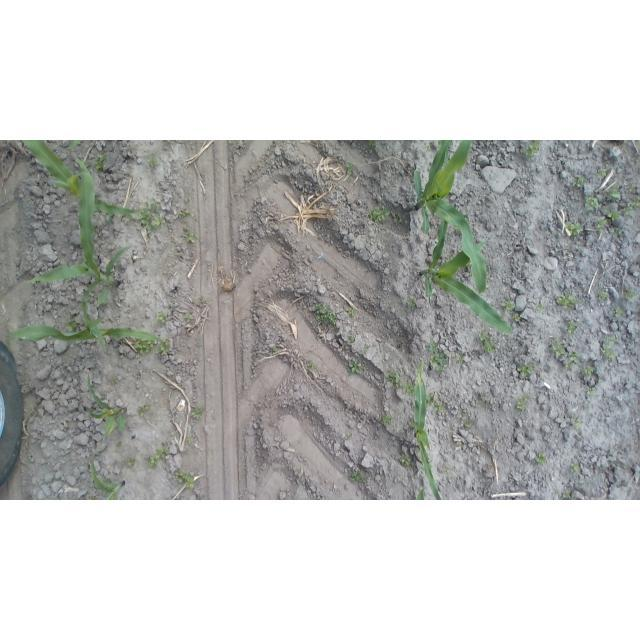Maize: (25, 153, 131, 345), (415, 140, 490, 293), (419, 218, 514, 337), (22, 140, 150, 216), (8, 321, 169, 354), (408, 361, 444, 500), (87, 371, 127, 437), (90, 448, 125, 500), (416, 485, 430, 500)
Weeds: (138, 199, 167, 233), (385, 371, 416, 396), (425, 340, 449, 372), (313, 303, 336, 325), (425, 390, 446, 413), (477, 330, 496, 354), (174, 468, 195, 488), (370, 204, 391, 224), (149, 448, 168, 468), (602, 336, 617, 361), (557, 292, 580, 308), (346, 361, 369, 376), (134, 339, 155, 355), (347, 471, 369, 484), (550, 339, 566, 356), (517, 394, 532, 412), (526, 141, 541, 158), (65, 315, 79, 333), (567, 221, 583, 236), (517, 363, 534, 377), (501, 300, 516, 315), (380, 413, 397, 426), (585, 197, 599, 212), (182, 227, 195, 243), (572, 174, 586, 188), (159, 340, 172, 355), (604, 188, 620, 200), (565, 320, 579, 333), (95, 154, 105, 171), (192, 407, 205, 420), (137, 405, 151, 417), (148, 155, 160, 169), (595, 217, 607, 231), (535, 452, 548, 464), (156, 311, 168, 323), (570, 461, 581, 474), (562, 490, 576, 500), (345, 163, 355, 176), (623, 202, 633, 215), (596, 168, 608, 178), (582, 365, 594, 375), (401, 454, 410, 467), (393, 213, 403, 224), (609, 211, 620, 221), (406, 297, 416, 308), (625, 289, 635, 300), (570, 352, 579, 364), (615, 306, 624, 318), (456, 354, 466, 364), (269, 347, 279, 357), (178, 210, 190, 218), (127, 458, 137, 467), (123, 215, 133, 224), (600, 291, 609, 300), (308, 364, 317, 373), (346, 308, 355, 317), (564, 361, 572, 371), (586, 386, 596, 394), (572, 419, 580, 428), (616, 228, 624, 237), (348, 335, 356, 343), (107, 216, 114, 225), (514, 313, 521, 322), (636, 195, 640, 209), (537, 304, 545, 311), (460, 412, 467, 420), (363, 344, 370, 352), (465, 422, 472, 429), (184, 316, 192, 322), (345, 433, 353, 439), (447, 256, 455, 262), (444, 468, 453, 473), (115, 443, 122, 449), (111, 377, 118, 383), (369, 141, 375, 148), (466, 260, 472, 267), (551, 231, 557, 237), (199, 494, 206, 499), (87, 496, 95, 500), (188, 438, 193, 444), (185, 196, 191, 201), (426, 147, 431, 152), (164, 141, 172, 144), (624, 141, 628, 144)
